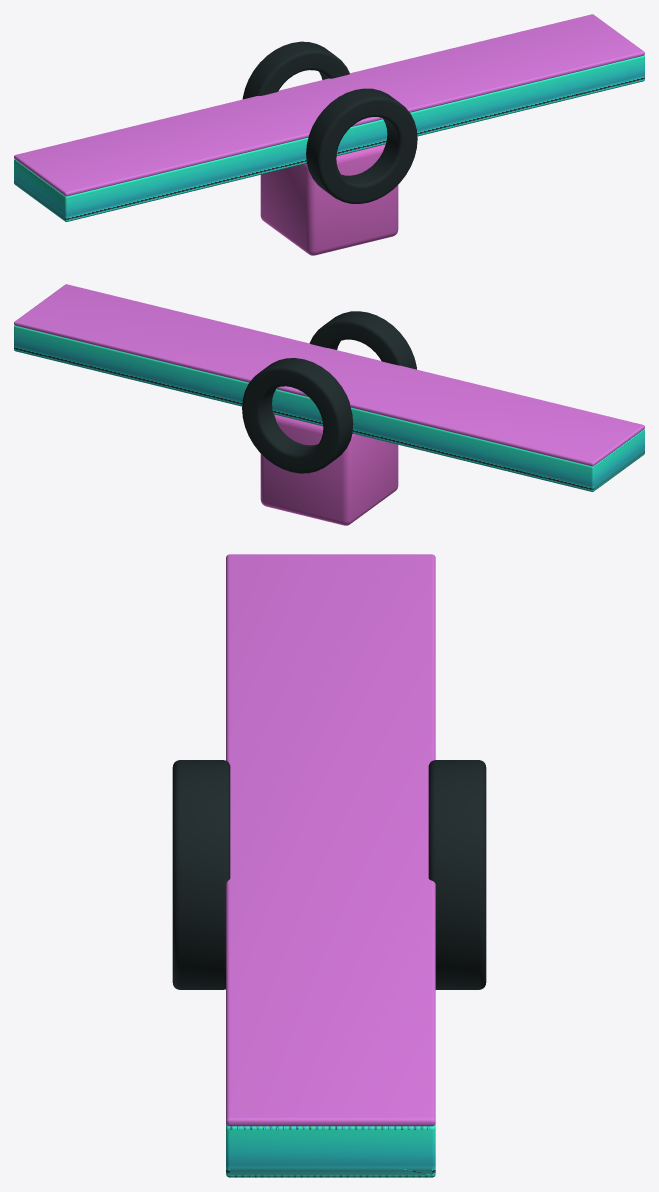
The model's file is seesaw.fbx.
The picture shows the model from 3 angles, top to bottom: view 1: azimuth 30°, elevation 25°; view 2: azimuth 150°, elevation 25°; view 3: azimuth 270°, elevation 25°; orthographic projection. The views are drawn at different scales.
Visible parts, largest first — view 1: up, side, down, side2_1, side2; view 2: up, side, down, side2, side2_1; view 3: up, side2_1, side2, side.
Boxes of the visible parts, x1,y1,x2,y2 form: up: [14, 14, 644, 196]; side: [14, 55, 644, 221]; down: [260, 144, 398, 255]; side2_1: [306, 88, 417, 203]; side2: [242, 41, 349, 99]; up: [14, 284, 644, 466]; side: [14, 325, 644, 491]; down: [260, 414, 398, 525]; side2: [242, 358, 353, 473]; side2_1: [309, 311, 416, 369]; up: [226, 554, 435, 1126]; side2_1: [172, 760, 230, 989]; side2: [428, 760, 486, 989]; side: [226, 1124, 435, 1177].
Bounding box in the file's own units: 1276 × 334 × 299.
Materials: 4 (1 with a texture image).
